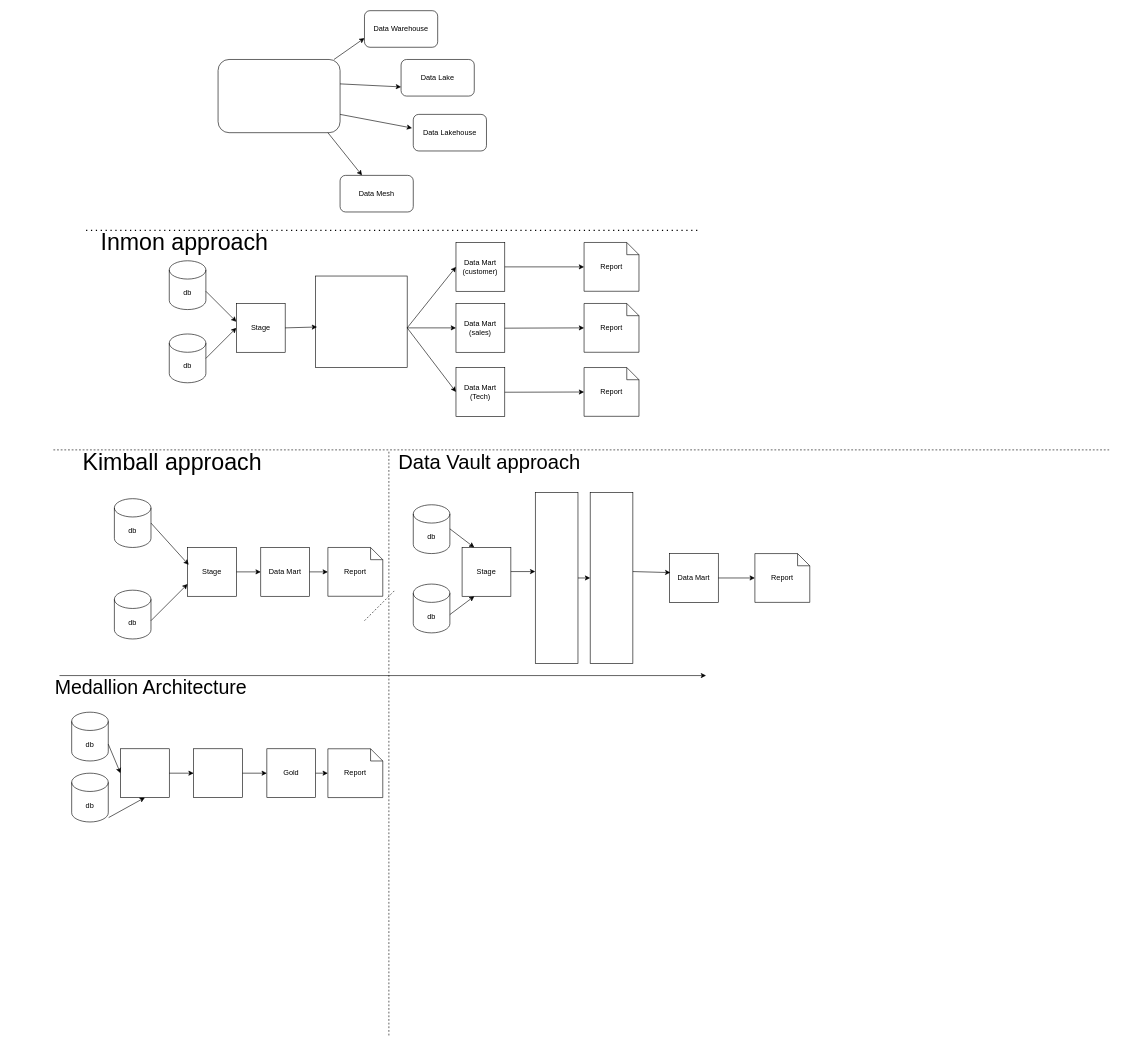
The diagram is 1121 pixels wide and 1047 high, and some of its shapes have lost their labels. The centre of each missing label's shape, as x and y in pixels:
Bronze: the point at 144,773
Business Vault: the point at 611,577
Data Architecture: the point at 278,96
Enterprise Data Warehouse (3rd NF): the point at 361,321
Raw Vault: the point at 556,577
Silver: the point at 217,773
